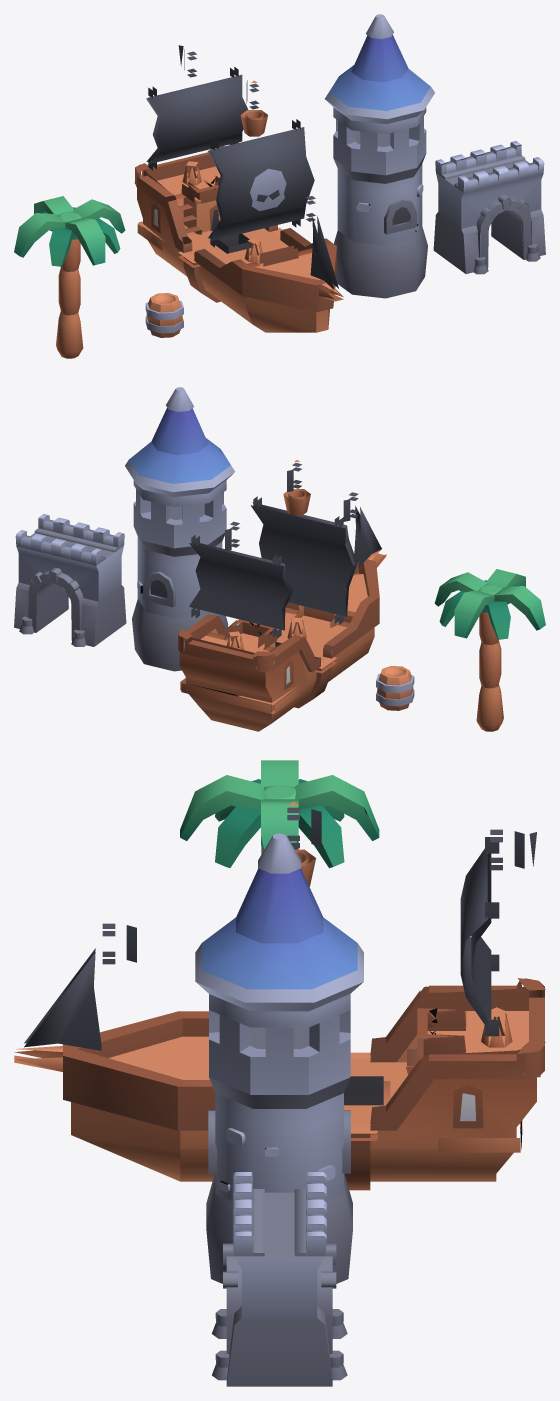
File: PirateCoast.fbx
3 views of the same model, one above another, from view 1: azimuth 30°, elevation 25°; view 2: azimuth 150°, elevation 25°; view 3: azimuth 270°, elevation 25° (orthographic). The views are drawn at different scales.
Visible parts, largest first — view 1: PirateCoast_Ship, PirateCoast_Lighthouse, PirateCoast_Fort, PirateCoast_Palm, PirateCoast_Barrel; view 2: PirateCoast_Ship, PirateCoast_Lighthouse, PirateCoast_Fort, PirateCoast_Palm, PirateCoast_Barrel; view 3: PirateCoast_Ship, PirateCoast_Lighthouse, PirateCoast_Fort, PirateCoast_Palm.
Part boxes in pixels (box(x1,y1,x2,y2)): PirateCoast_Ship: box(134, 45, 343, 332); PirateCoast_Lighthouse: box(325, 14, 434, 298); PirateCoast_Fort: box(433, 141, 545, 274); PirateCoast_Palm: box(14, 196, 125, 358); PirateCoast_Barrel: box(145, 293, 183, 337); PirateCoast_Ship: box(177, 460, 386, 731); PirateCoast_Lighthouse: box(125, 387, 234, 671); PirateCoast_Fort: box(14, 514, 126, 646); PirateCoast_Palm: box(434, 569, 545, 731); PirateCoast_Barrel: box(376, 666, 414, 710); PirateCoast_Ship: box(14, 802, 545, 1190); PirateCoast_Lighthouse: box(195, 833, 363, 1283); PirateCoast_Fort: box(212, 1172, 347, 1386); PirateCoast_Palm: box(180, 760, 379, 868).
Bounding box in the file's own units: 81.53 × 40 × 44.81.
Materials: 5 (5 with a texture image).
